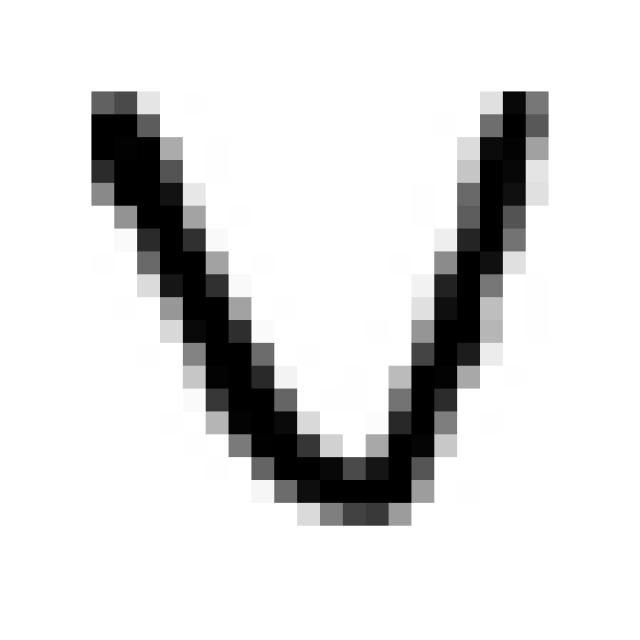7 -seven-: (69, 64, 566, 531)
